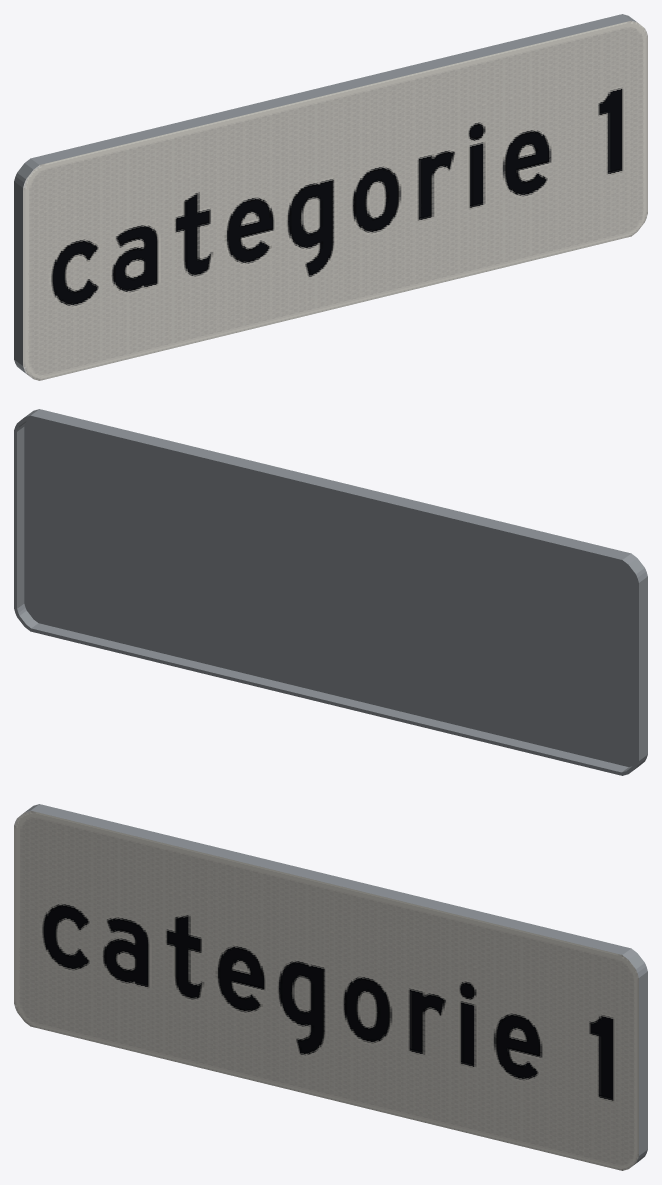
The picture shows the model from 3 angles, top to bottom: view 1: azimuth 30°, elevation 25°; view 2: azimuth 150°, elevation 25°; view 3: azimuth 330°, elevation 25°; orthographic projection.
Visible parts, largest first — view 1: cat_9bb8c31ed5c42b61; view 2: cat_9bb8c31ed5c42b61; view 3: cat_9bb8c31ed5c42b61.
Boxes of the visible parts, x1,y1,x2,y2 form: cat_9bb8c31ed5c42b61: (14,14,647,380); cat_9bb8c31ed5c42b61: (14,409,647,775); cat_9bb8c31ed5c42b61: (14,804,647,1170).
Bounding box in the file's own units: 0.6 × 0.015 × 0.1981.
Materials: 2 (1 with a texture image).
